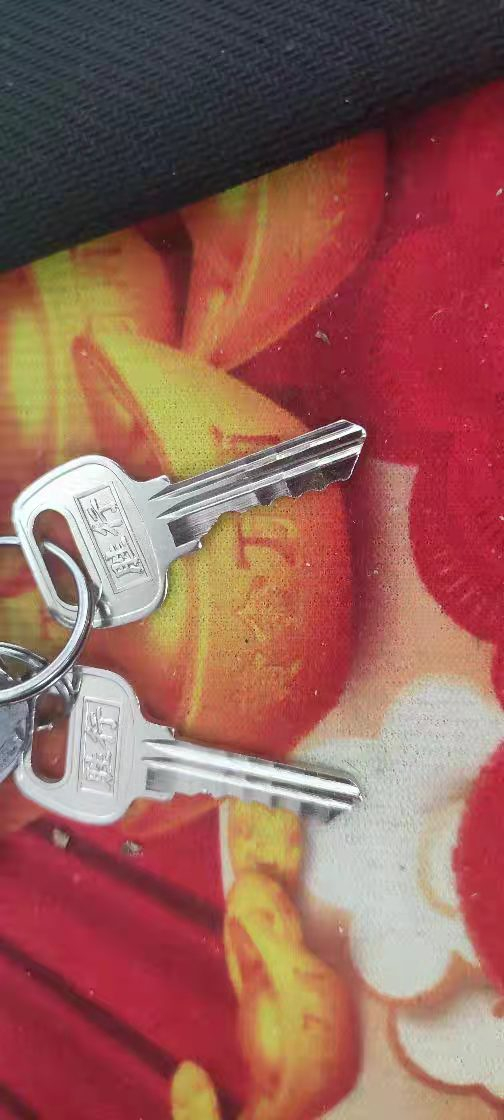key: (9, 403, 376, 636), (11, 659, 372, 835)
